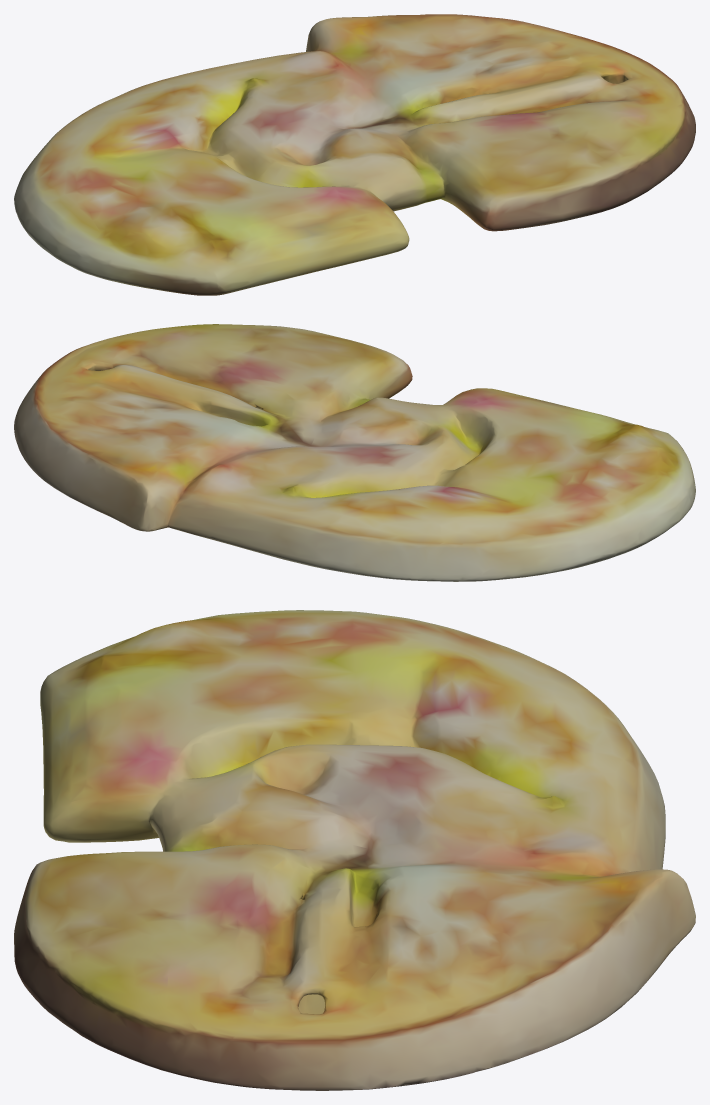
The model's file is capture-sam3d.glb.
The picture shows the model from 3 angles, top to bottom: view 1: azimuth 30°, elevation 25°; view 2: azimuth 150°, elevation 25°; view 3: azimuth 270°, elevation 25°; orthographic projection. The views are drawn at different scales.
Parts seen in each view (by area): view 1: sam3d pizza; view 2: sam3d pizza; view 3: sam3d pizza.
Boxes of the visible parts, x1,y1,x2,y2 form: sam3d pizza: [14, 14, 695, 295]; sam3d pizza: [14, 324, 695, 581]; sam3d pizza: [14, 610, 695, 1090].
Bounding box in the file's own units: 0.9998 × 0.0773 × 0.6389.
